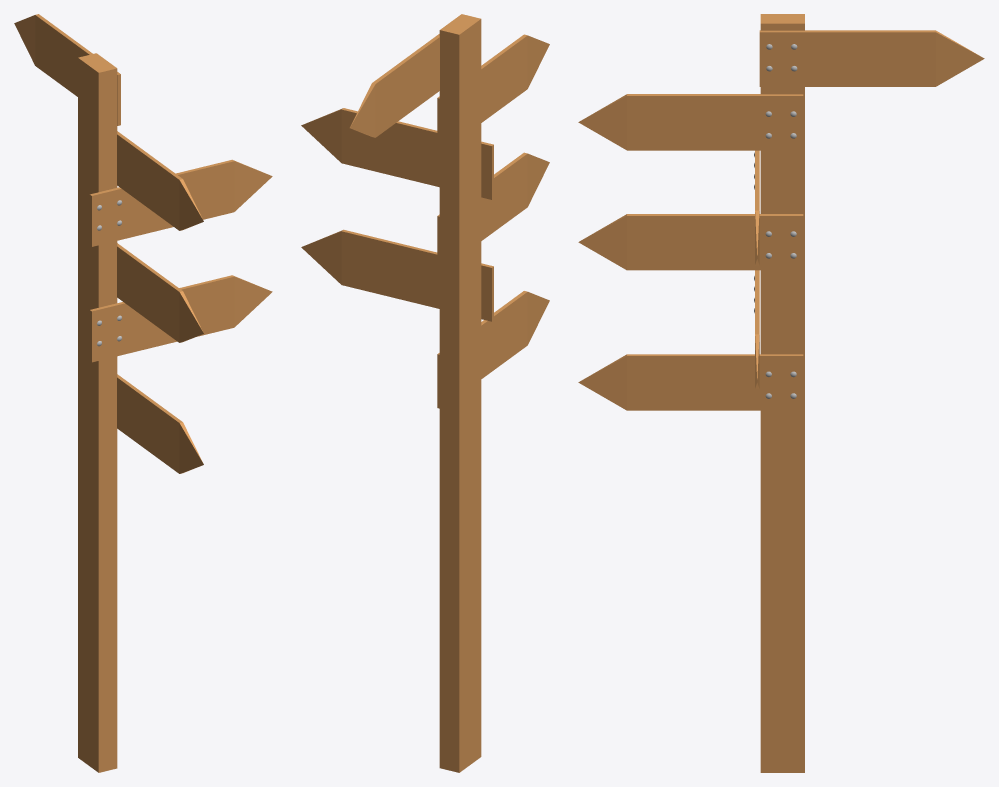
Rendered from DirectionPost.fbx.
3 renders of one model, left to right at view 1: azimuth 30°, elevation 25°; view 2: azimuth 150°, elevation 25°; view 3: azimuth 270°, elevation 25°, orthographic. The views are drawn at different scales.
Visible parts, largest first — view 1: Box001, Box005, Box004, Box003, Box006, Box007, Box002; view 2: Box001, Box005, Box004, Box002, Box003, Box007, Box006; view 3: Box001, Box002, Box003, Box007, Box006.
Boxes of the visible parts, x1,y1,x2,y2 form: Box001: [78, 53, 117, 772]; Box005: [89, 275, 272, 362]; Box004: [89, 159, 272, 246]; Box003: [117, 131, 203, 230]; Box006: [117, 243, 203, 342]; Box007: [117, 374, 203, 473]; Box002: [14, 14, 120, 125]; Box001: [439, 14, 481, 772]; Box005: [301, 229, 493, 321]; Box004: [301, 108, 493, 199]; Box002: [350, 34, 439, 137]; Box003: [437, 34, 549, 152]; Box007: [437, 291, 549, 408]; Box006: [437, 152, 549, 270]; Box001: [760, 14, 804, 772]; Box002: [759, 30, 984, 86]; Box003: [578, 94, 803, 150]; Box007: [578, 354, 803, 410]; Box006: [578, 214, 803, 270].
Size of the model in its own units: 27.93 by 103 by 50.48.
